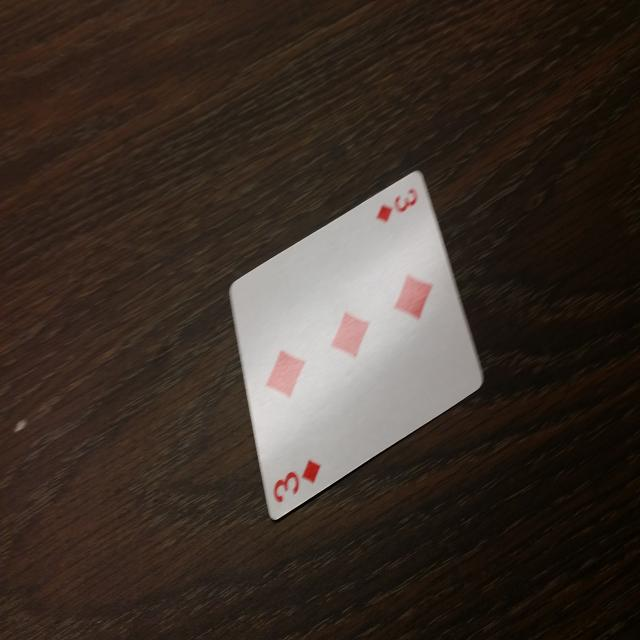3d: (269, 450, 330, 514), (375, 185, 421, 234)
